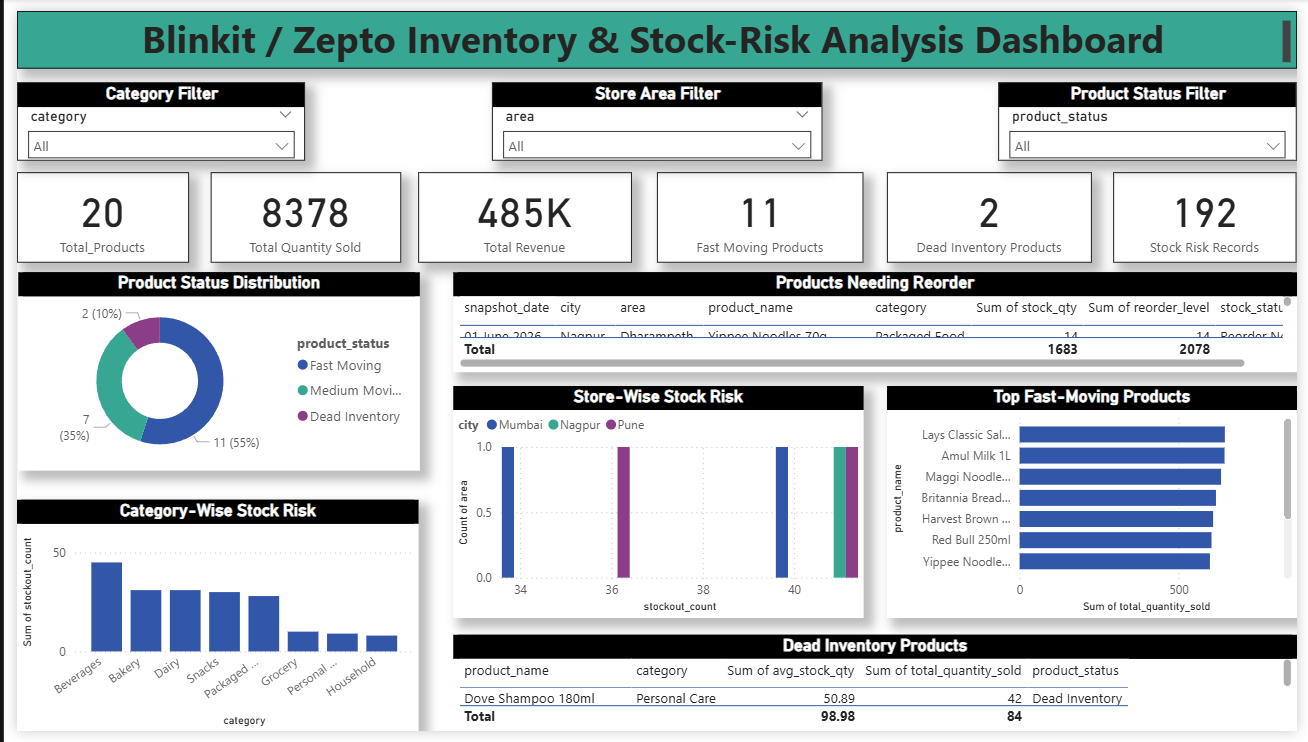

The page's visual inventory and layout, read from the dashboard file:
{"tool":"powerbi","page":{"name":"Inventory Dashboard","canvas":[1280,720],"ordinal":0},"visuals":[{"type":"card","fields":{"Values":["product_status_summary.Total_Products"]},"box":[0,161.7,171.7,90],"z":0},{"type":"card","fields":{"Values":["product_status_summary.Fast Moving Products"]},"box":[640,161.7,206.7,90],"z":1000},{"type":"card","fields":{"Values":["reorder_needed_products.Stock Risk Records"]},"box":[1096.7,161.7,183.3,90],"z":2000},{"type":"card","fields":{"Values":["product_status_summary.Dead Inventory Products"]},"box":[870,161.7,205,90],"z":3000},{"type":"card","fields":{"Values":["product_status_summary.Total Quantity Sold"]},"box":[193.3,161.7,190,90],"z":4000},{"type":"card","fields":{"Values":["product_status_summary.Total Revenue"]},"box":[401.7,161.7,213.3,90],"z":5000},{"type":"textbox","box":[0,281,151,150],"z":6000},{"type":"textbox","box":[0,0,1280,57.5],"z":7000},{"type":"donutChart","title":"Product Status Distribution","fields":{"Category":["product_status_summary.product_status"],"Y":["CountNonNull(product_status_summary.product_id)"]},"box":[1.7,261.7,401.7,198.3],"z":8000},{"type":"clusteredBarChart","title":"Top Fast-Moving Products","fields":{"Category":["product_status_summary.product_name"],"Y":["Sum(product_status_summary.total_quantity_sold)"]},"box":[870,375,410,231.7],"z":9000},{"type":"clusteredColumnChart","title":"Category-Wise Stock Risk","fields":{"Category":["category_stockout_summary.category"],"Y":["Sum(category_stockout_summary.stockout_count)"]},"box":[0,488.3,401.7,231.7],"z":10000},{"type":"clusteredColumnChart","title":"Store-Wise Stock Risk","fields":{"Y":["CountNonNull(store_stockout_summary.area)"],"Category":["store_stockout_summary.stockout_count"],"Series":["store_stockout_summary.city"]},"box":[436.7,375,410,231.7],"z":11000},{"type":"tableEx","title":"Dead Inventory Products","fields":{"Values":["dead_inventory_products.product_name","dead_inventory_products.category","Sum(dead_inventory_products.avg_stock_qty)","Sum(dead_inventory_products.total_quantity_sold)","dead_inventory_products.product_status"]},"box":[436.2,623.8,843.8,96.2],"z":12000},{"type":"tableEx","title":"Products Needing Reorder","fields":{"Values":["reorder_needed_products.snapshot_date","reorder_needed_products.city","reorder_needed_products.area","reorder_needed_products.product_name","reorder_needed_products.category","Sum(reorder_needed_products.stock_qty)","Sum(reorder_needed_products.reorder_level)","reorder_needed_products.stock_status"]},"box":[436.2,261.2,843.8,100],"z":13000},{"type":"slicer","title":"Category Filter","fields":{"Values":["product_status_summary.category"]},"box":[0,71.7,288.3,78.3],"z":14000},{"type":"slicer","title":"Product Status Filter","fields":{"Values":["product_status_summary.product_status"]},"box":[981.7,71.7,298.3,78.3],"z":15000},{"type":"slicer","title":"Store Area Filter","fields":{"Values":["reorder_needed_products.area"]},"box":[475,71.7,330,78.3],"z":16000}]}

Visuals, with their boxes in screenshot pixels (x1, y1, x2, y2), scaled from the page's 1280x720 canvas onto the 1308x742 screenshot:
card - product_status_summary.Total_Products: 0/167/175/259
card - product_status_summary.Fast Moving Products: 654/167/865/259
card - reorder_needed_products.Stock Risk Records: 1121/167/1307/259
card - product_status_summary.Dead Inventory Products: 889/167/1099/259
card - product_status_summary.Total Quantity Sold: 198/167/392/259
card - product_status_summary.Total Revenue: 410/167/628/259
textbox: 0/290/154/444
textbox: 0/0/1307/59
"Product Status Distribution" donutChart: 2/270/412/474
"Top Fast-Moving Products" clusteredBarChart: 889/386/1307/625
"Category-Wise Stock Risk" clusteredColumnChart: 0/503/410/741
"Store-Wise Stock Risk" clusteredColumnChart: 446/386/865/625
"Dead Inventory Products" tableEx: 446/643/1307/741
"Products Needing Reorder" tableEx: 446/269/1307/372
"Category Filter" slicer: 0/74/295/155
"Product Status Filter" slicer: 1003/74/1307/155
"Store Area Filter" slicer: 485/74/823/155
